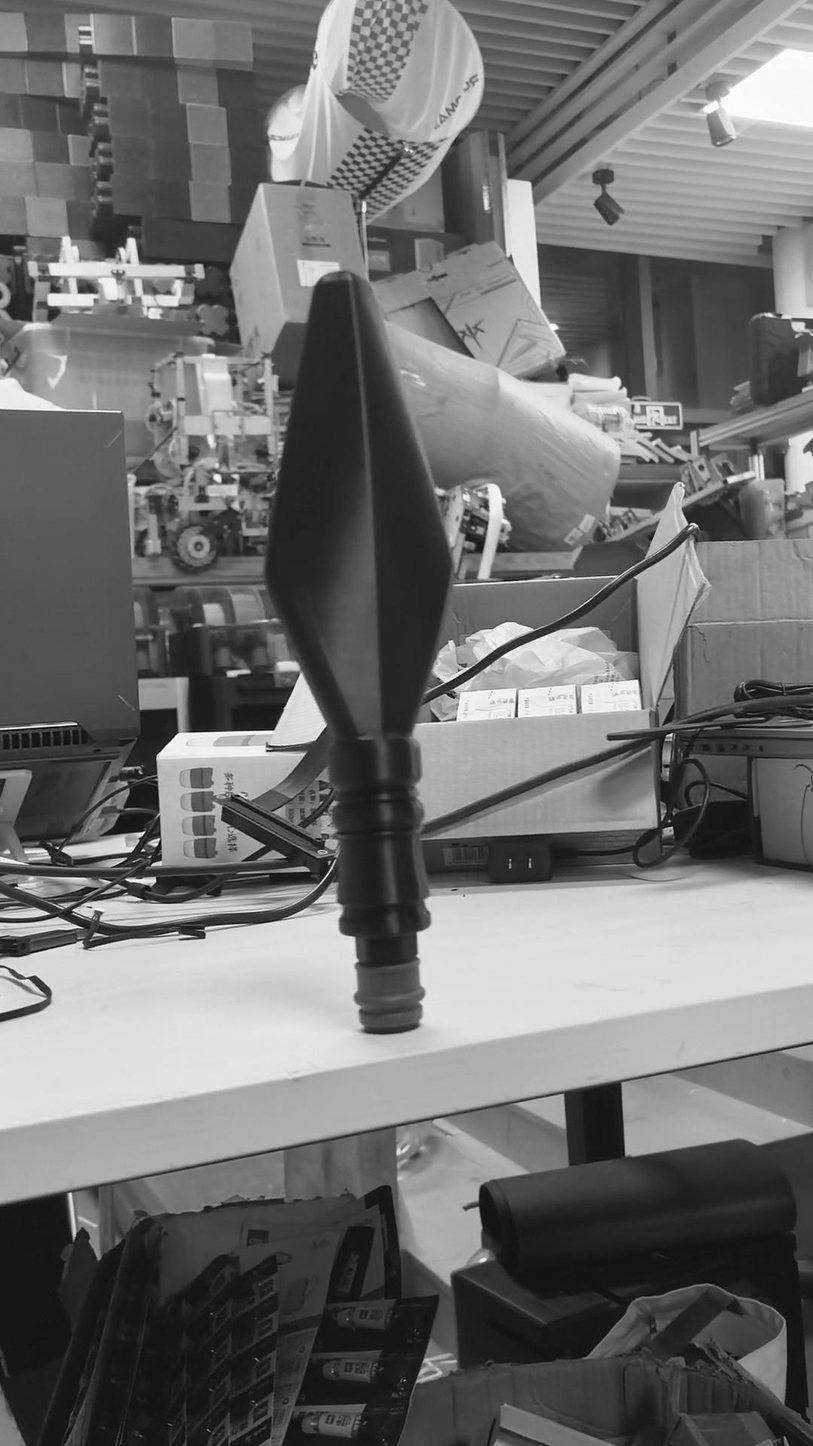base: (354, 949, 427, 1034)
